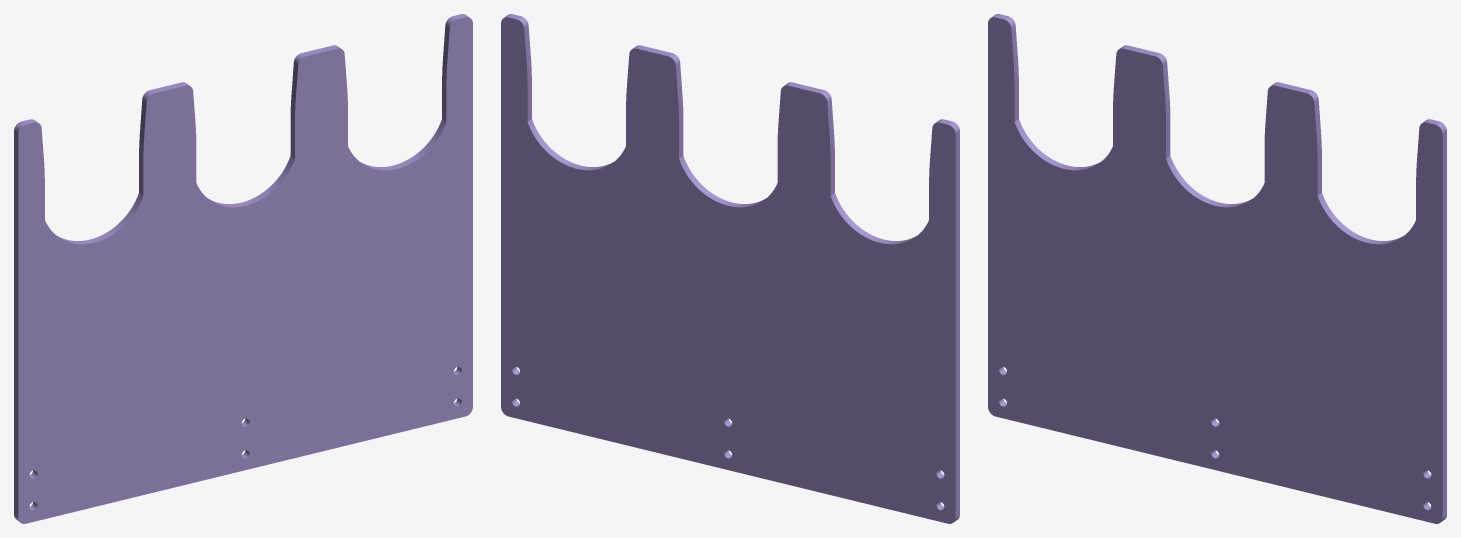
The model's file is toolbay_flat.dae.
3 views of the same model, side by side, from view 1: azimuth 30°, elevation 25°; view 2: azimuth 150°, elevation 25°; view 3: azimuth 330°, elevation 25° (orthographic).
Bounding box in the file's own units: 0.3 × 0.2517 × 0.005.
